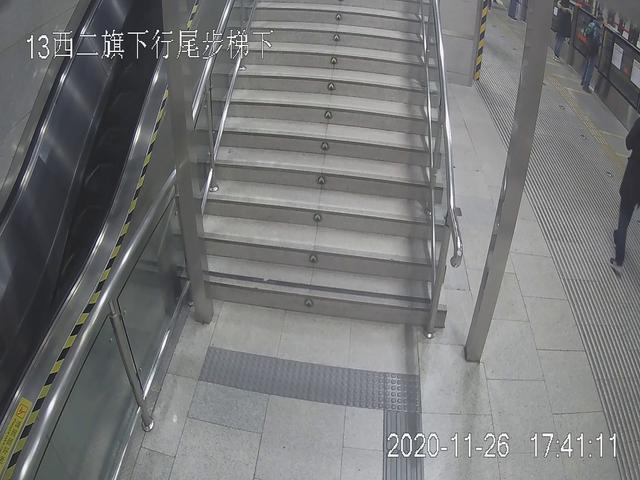person: (575, 16, 606, 93)
